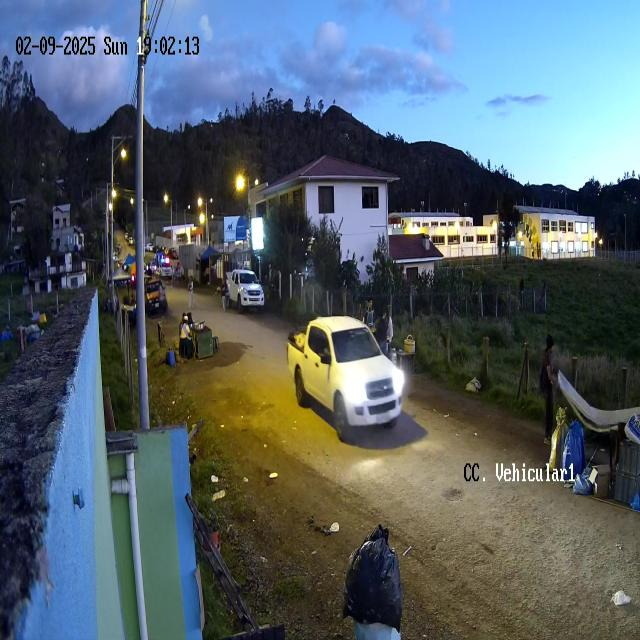CMT: (285, 314, 404, 442)
